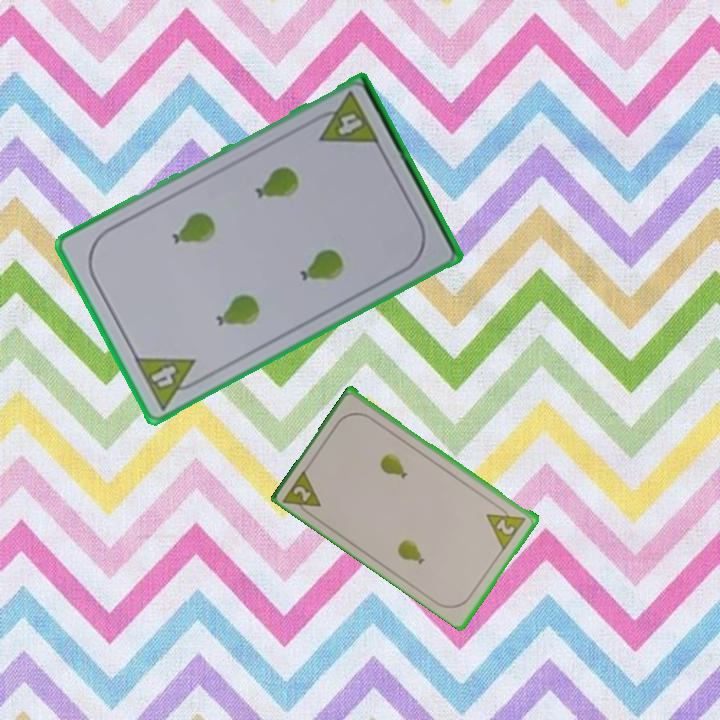2p: (280, 464, 325, 520), (483, 501, 529, 552)
4p: (130, 353, 208, 413), (307, 88, 383, 148)
